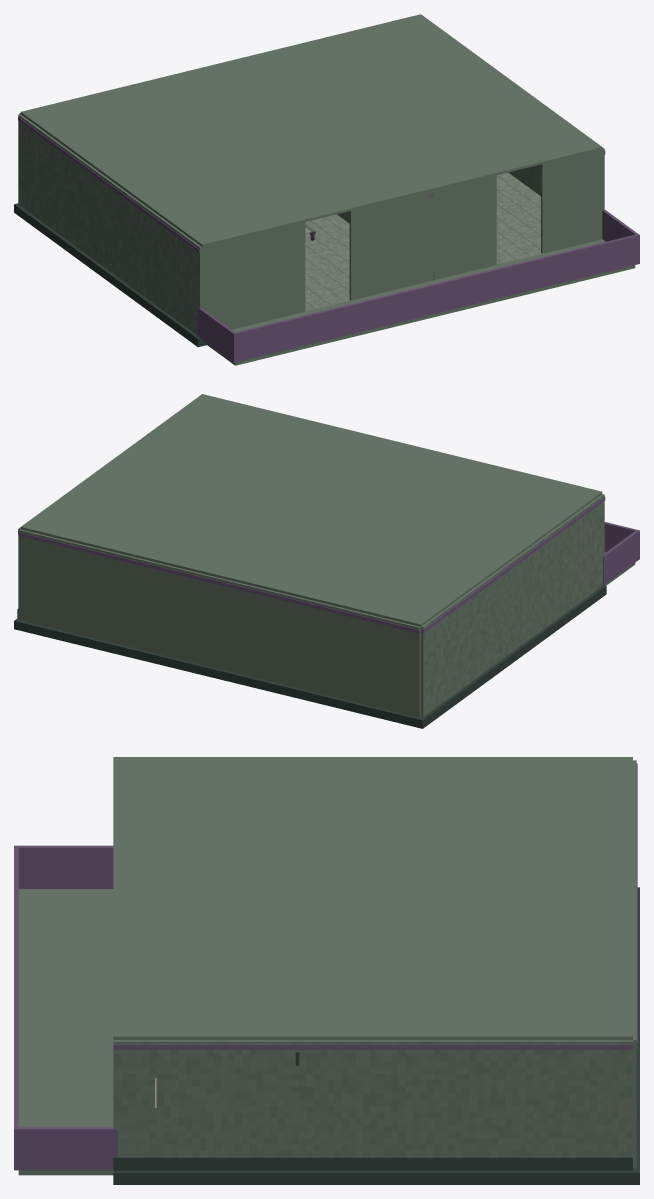
Rendered from L2_后仓夜游.glb.
3 views of the same model, one above another, from view 1: azimuth 30°, elevation 25°; view 2: azimuth 150°, elevation 25°; view 3: azimuth 270°, elevation 25° (orthographic). The views are drawn at different scales.
Visible parts, largest first — view 1: CEILING_WAREHOUSE, CEILING_LOADING, CEILING_COLD, WALL_PIXEL_V_0_0_-1, WALL_H_9_5.2, L2_APRON_FRONT_GUARD, WALL_H_9_0, WALL_H_9_11.9, L2_ENTRY_APRON, FOUNDATION, L2_APRON_SIDE_GUARD, CEILING_FRONT (+5 smaller); view 2: WALL_H_20_0, CEILING_LOADING, CEILING_WAREHOUSE, CEILING_COLD, WALL_PIXEL_V_0_0_-1, FOUNDATION, WALL_TRIM_H_20_0, L2_APRON_SIDE_GUARD, WALL_TRIM_V_0_0, WALL_V_0_0, L2_APRON_FRONT_GUARD; view 3: WALL_PIXEL_V_14_0_1, CEILING_LOADING, CEILING_WAREHOUSE, CEILING_COLD, L2_ENTRY_APRON, FOUNDATION, SKIRT_V_14_0, L2_APRON_SIDE_GUARD.001, L2_APRON_SIDE_GUARD, WALL_TRIM_V_14_0, WALL_H_20_0, L2_APRON_FRONT_GUARD (+1 smaller).
Part boxes in pixels (<box>): CEILING_WAREHOUSE: <box>86,104,430,246</box>; CEILING_LOADING: <box>20,14,486,161</box>; CEILING_COLD: <box>316,62,601,188</box>; WALL_PIXEL_V_0_0_-1: <box>18,115,199,335</box>; WALL_H_9_5.2: <box>349,175,496,300</box>; L2_APRON_FRONT_GUARD: <box>232,234,639,362</box>; WALL_H_9_0: <box>202,222,305,329</box>; WALL_H_9_11.9: <box>541,150,600,253</box>; L2_ENTRY_APRON: <box>202,239,635,365</box>; FOUNDATION: <box>14,203,206,347</box>; L2_APRON_SIDE_GUARD: <box>197,307,236,362</box>; CEILING_FRONT: <box>202,147,602,246</box>; WALL_H_20_0: <box>19,529,420,717</box>; CEILING_LOADING: <box>20,478,486,626</box>; CEILING_WAREHOUSE: <box>258,436,602,578</box>; CEILING_COLD: <box>87,394,373,520</box>; WALL_PIXEL_V_0_0_-1: <box>423,495,604,716</box>; FOUNDATION: <box>14,585,606,728</box>; WALL_TRIM_H_20_0: <box>19,532,420,633</box>; L2_APRON_SIDE_GUARD: <box>603,529,639,585</box>; WALL_TRIM_V_0_0: <box>422,497,605,633</box>; WALL_V_0_0: <box>421,494,604,716</box>; L2_APRON_FRONT_GUARD: <box>604,522,639,559</box>; WALL_PIXEL_V_14_0_1: <box>113,1041,632,1157</box>; CEILING_LOADING: <box>444,757,632,1039</box>; CEILING_WAREHOUSE: <box>113,757,443,916</box>; CEILING_COLD: <box>113,916,443,1039</box>; L2_ENTRY_APRON: <box>18,889,113,1175</box>; FOUNDATION: <box>113,887,639,1184</box>; SKIRT_V_14_0: <box>113,1157,632,1170</box>; L2_APRON_SIDE_GUARD.001: <box>14,1127,117,1170</box>; L2_APRON_SIDE_GUARD: <box>14,845,113,888</box>; WALL_TRIM_V_14_0: <box>113,1044,632,1049</box>; WALL_H_20_0: <box>633,760,636,1168</box>; L2_APRON_FRONT_GUARD: <box>14,845,18,1170</box>.
Bounding box in the file's own units: 14.3 × 3.39 × 13.25.
45 materials, 9 textured.
